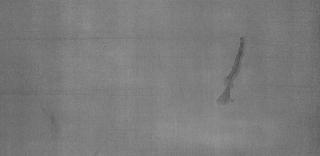water spot: (212, 28, 250, 112)
